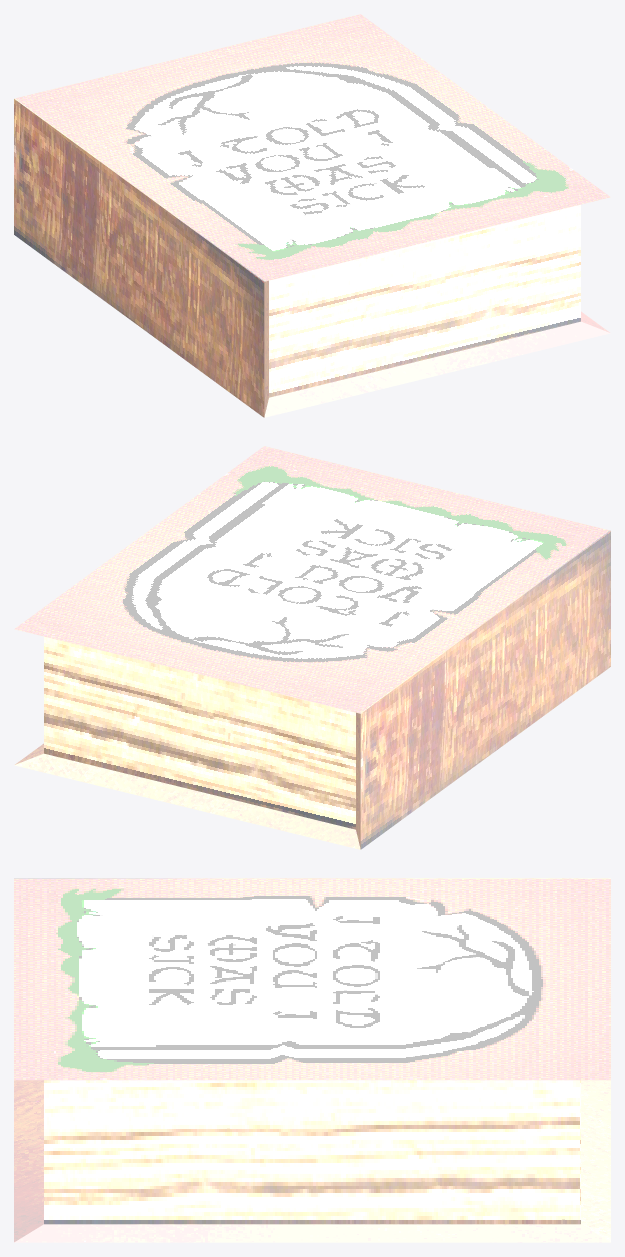
File: urn_book_2.glb
3 renders of one model, top to bottom at view 1: azimuth 30°, elevation 25°; view 2: azimuth 150°, elevation 25°; view 3: azimuth 270°, elevation 25°, orthographic. The views are drawn at different scales.
Visible parts, largest first — view 1: Book_2; view 2: Book_2; view 3: Book_2.
Part boxes in pixels (<box>): Book_2: <box>14,14,610,417</box>; Book_2: <box>14,446,610,849</box>; Book_2: <box>14,878,610,1242</box>.
Bounding box in the file's own units: 0.64 × 0.24 × 0.8.
